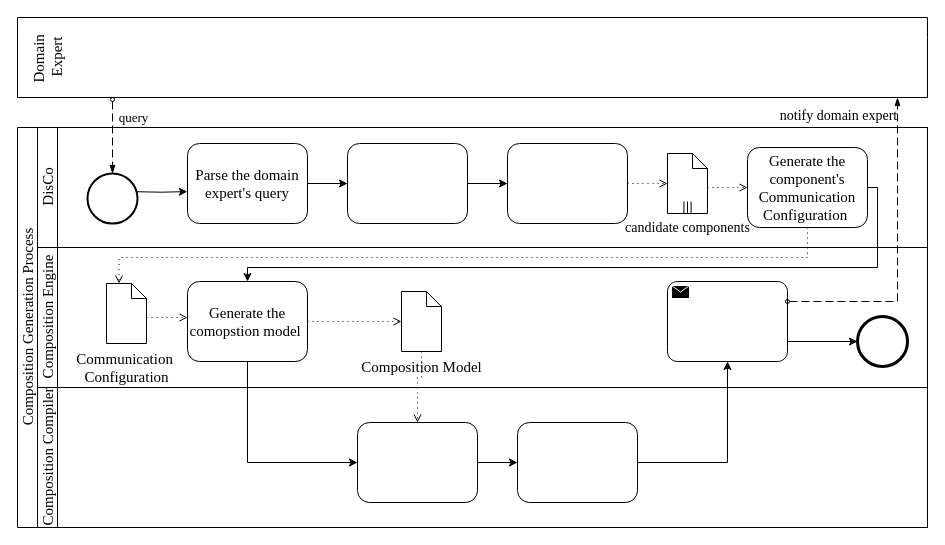
The diagram is 945 pixels wide and 545 high, and some of its shapes have lost their labels. Each missing label, with the centre of its shape:
"Deploy final mashup solution" belongs at (577,462).
"Generate executable code" belongs at (417,462).
"Identify the target domain" belongs at (407,183).
"Selects the candidate components" belongs at (567,183).
"Send completion notification" belongs at (727,321).
